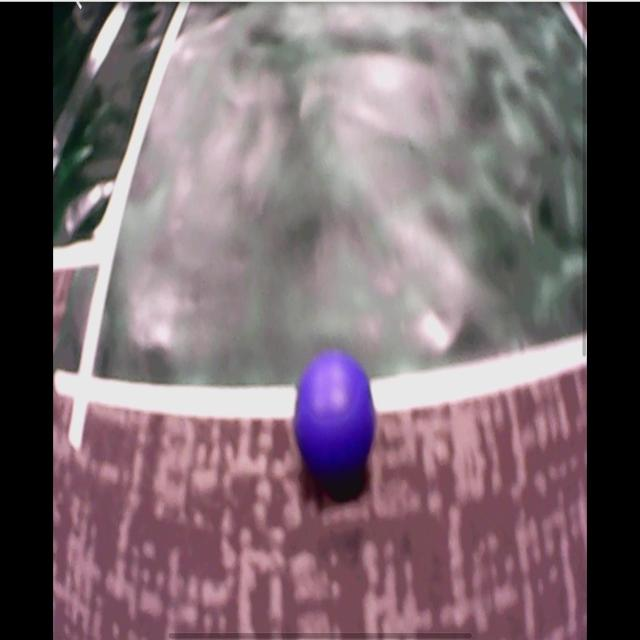ball: (294, 351, 377, 479)
